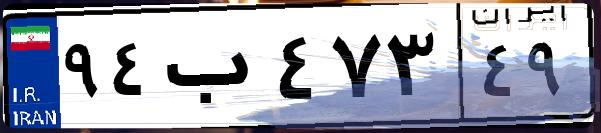3: (385, 28, 445, 110)
4: (270, 28, 330, 110), (475, 38, 525, 113), (110, 28, 158, 98)
7: (330, 28, 385, 110)
9: (57, 26, 110, 100), (525, 38, 570, 115)
ب: (158, 20, 270, 120)
